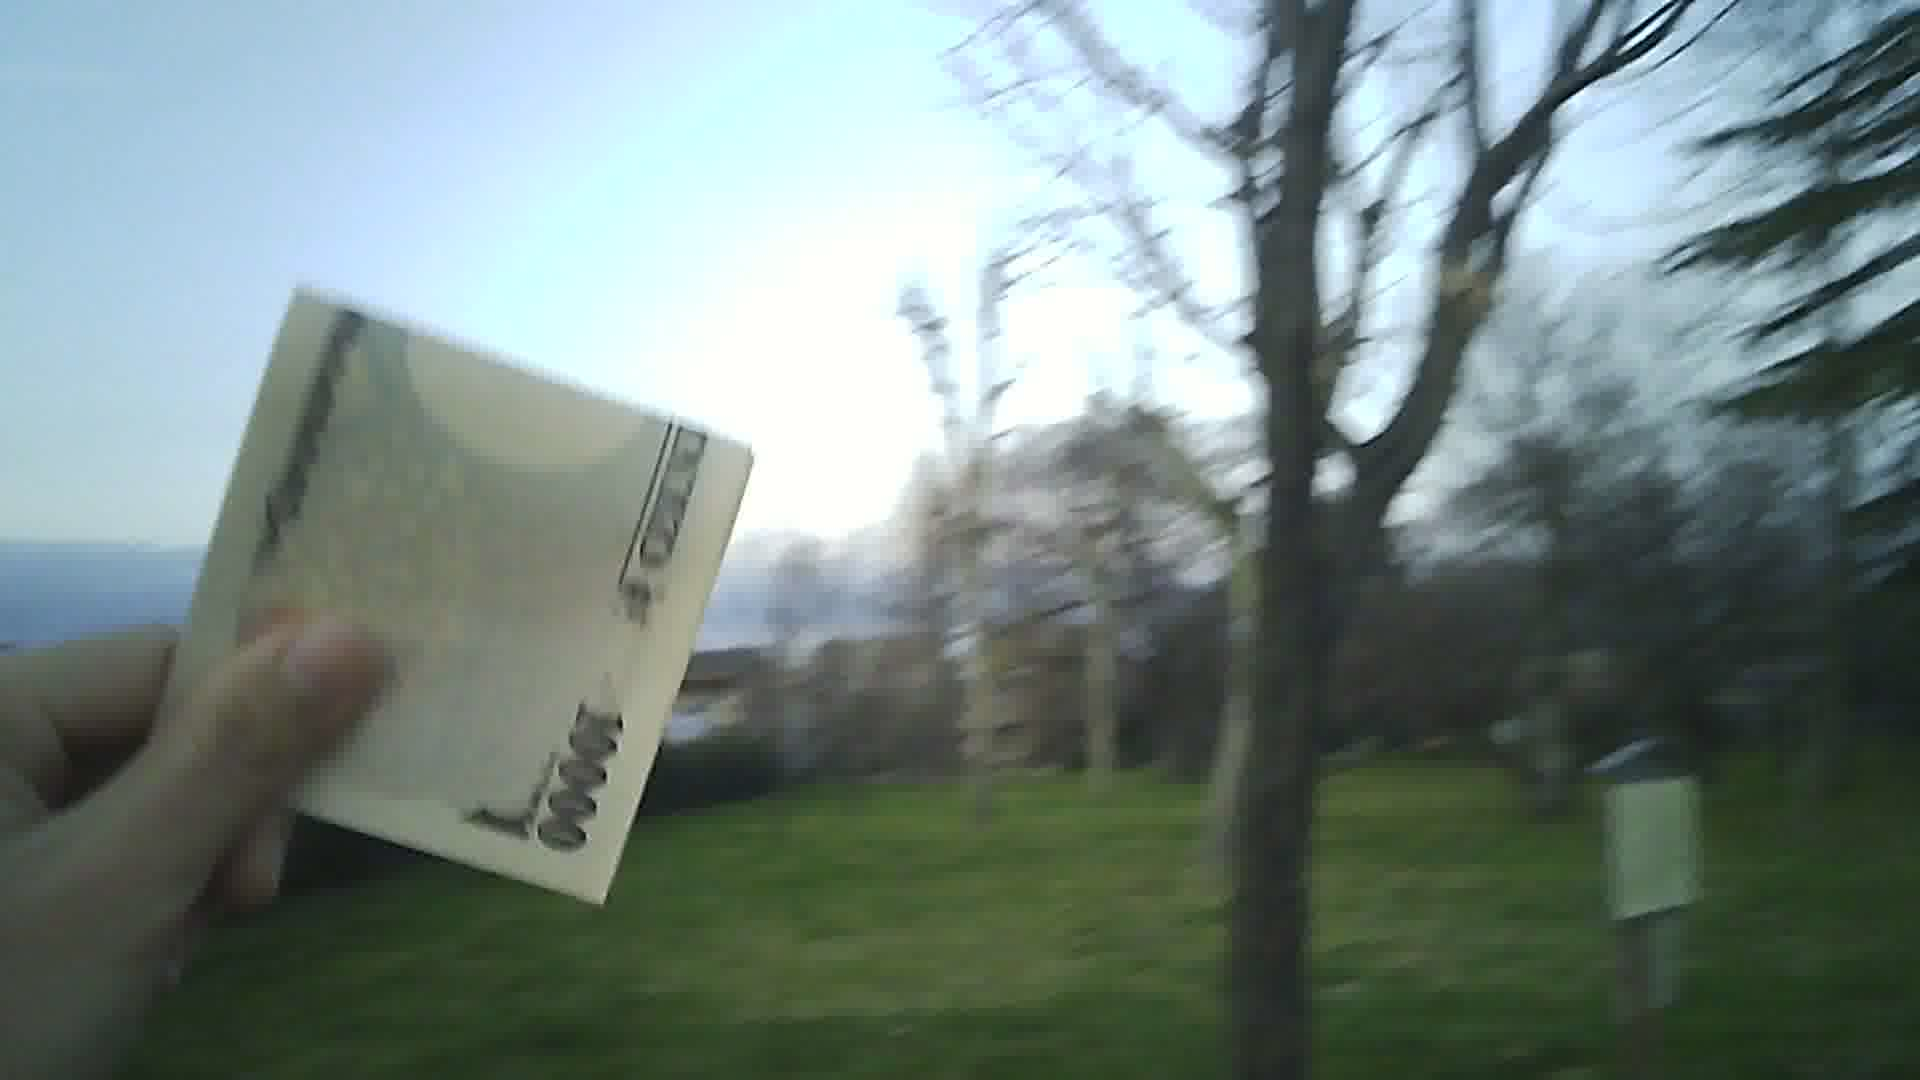10,000 Yen: (161, 260, 750, 902)
